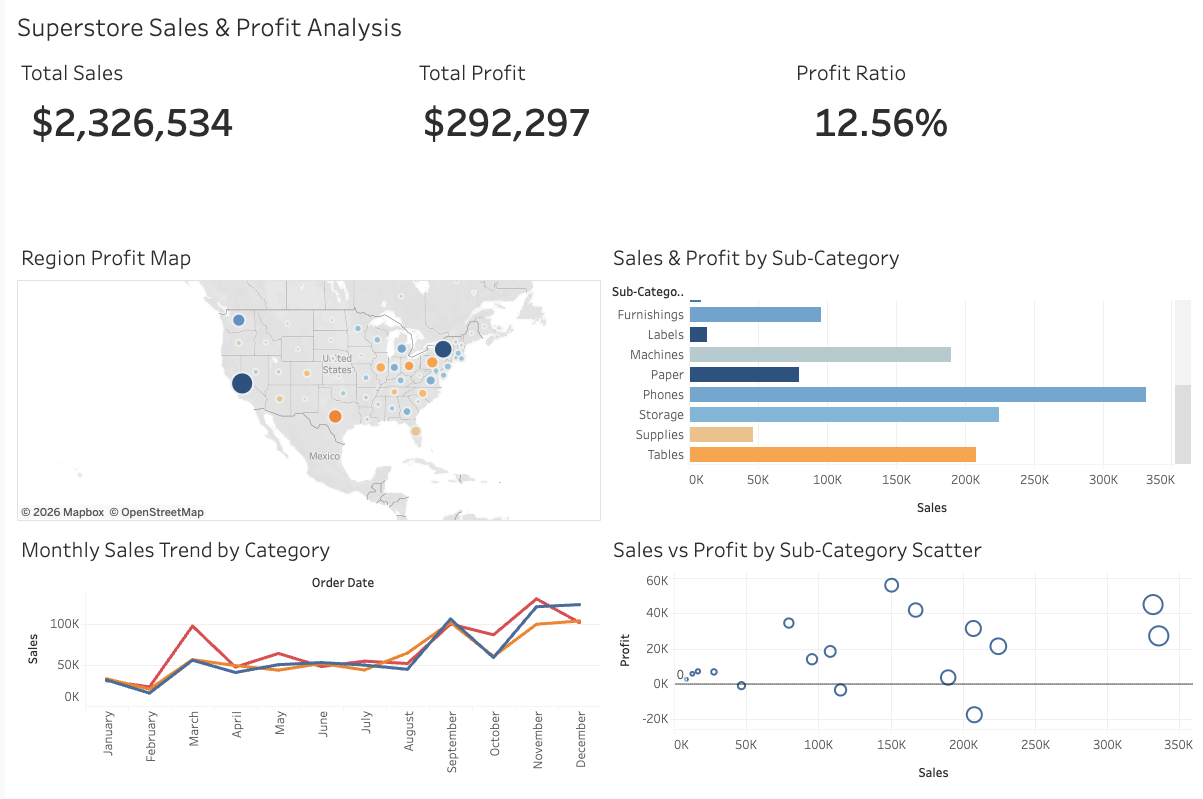

What the dashboard file says about the page in this screenshot:
{"tool":"tableau","page":{"name":"Superstore Sales & Profit Analysis","canvas":[1200,800],"ordinal":0},"visuals":[{"type":"title","box":[8,8,1184,42]},{"type":"worksheet","title":"Total Sales","mark":"Text","box":[8,50,397.7,185.5]},{"type":"worksheet","title":"Total Profit","mark":"Text","box":[405.7,50,377,185.5]},{"type":"worksheet","title":"Profit Ratio","mark":"Text","box":[782.7,50,409.3,185.5]},{"type":"worksheet","title":"Region Profit Map","mark":"Automatic","box":[8,235.5,592,291.5]},{"type":"worksheet","title":"Sales & Profit by Sub-Category","mark":"Automatic","rows":["Sub-Category"],"cols":["Sales"],"box":[600,235.5,592,291.5]},{"type":"worksheet","title":"Monthly Sales Trend by Category","mark":"Automatic","rows":["Sales"],"cols":["Order Date"],"box":[8,527,592,265]},{"type":"worksheet","title":"Sales vs Profit by Sub-Category Scatter","mark":"Automatic","rows":["Profit"],"cols":["Sales"],"box":[600,527,592,265]}]}

Visuals, with their boxes in screenshot pixels (x1, y1, x2, y2), scaled from the page's 1200x800 canvas onto the 1203x799 screenshot:
title: <region>8, 8, 1195, 50</region>
"Total Sales" worksheet (Text marks): <region>8, 50, 407, 235</region>
"Total Profit" worksheet (Text marks): <region>407, 50, 785, 235</region>
"Profit Ratio" worksheet (Text marks): <region>785, 50, 1195, 235</region>
"Region Profit Map" worksheet: <region>8, 235, 602, 526</region>
"Sales & Profit by Sub-Category" worksheet: <region>602, 235, 1195, 526</region>
"Monthly Sales Trend by Category" worksheet: <region>8, 526, 602, 791</region>
"Sales vs Profit by Sub-Category Scatter" worksheet: <region>602, 526, 1195, 791</region>
